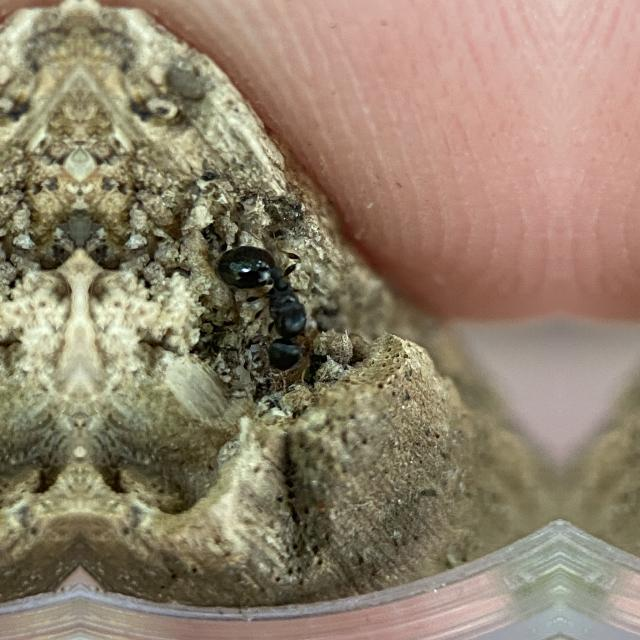Temnothorax: (205, 240, 329, 380)
